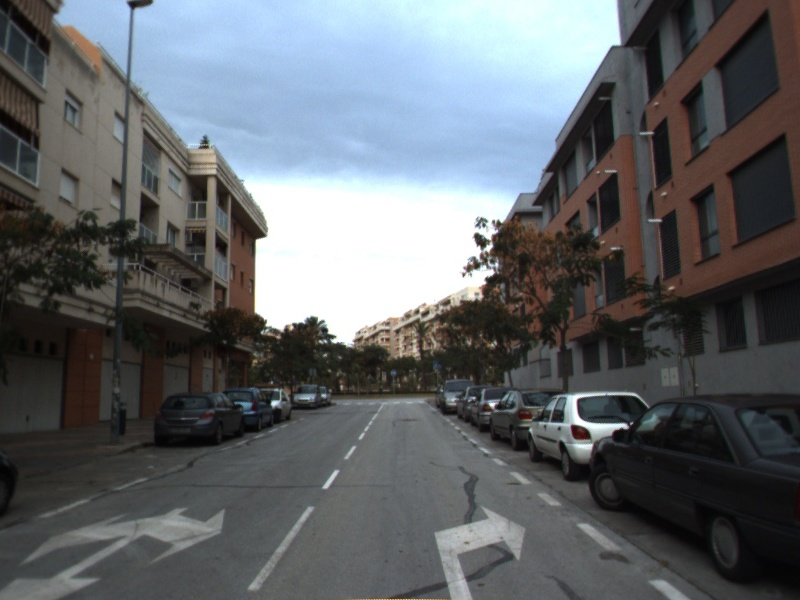RIGHT: (431, 502, 528, 600)
